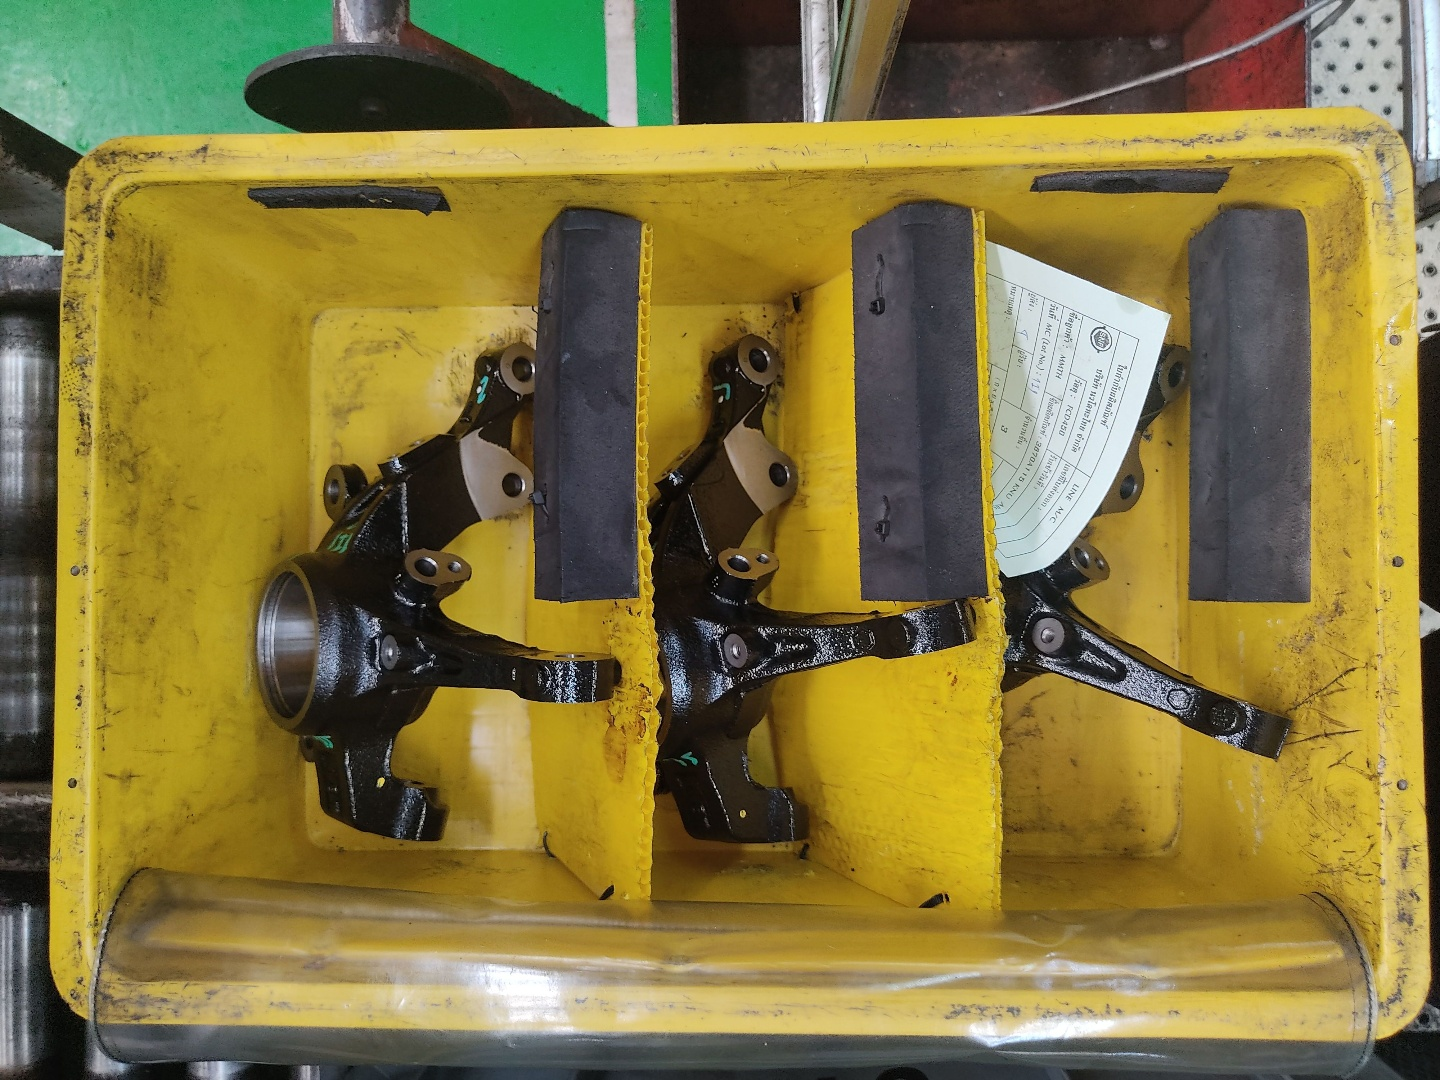abs-lh: (246, 332, 629, 853), (633, 327, 981, 859), (983, 331, 1297, 860)
